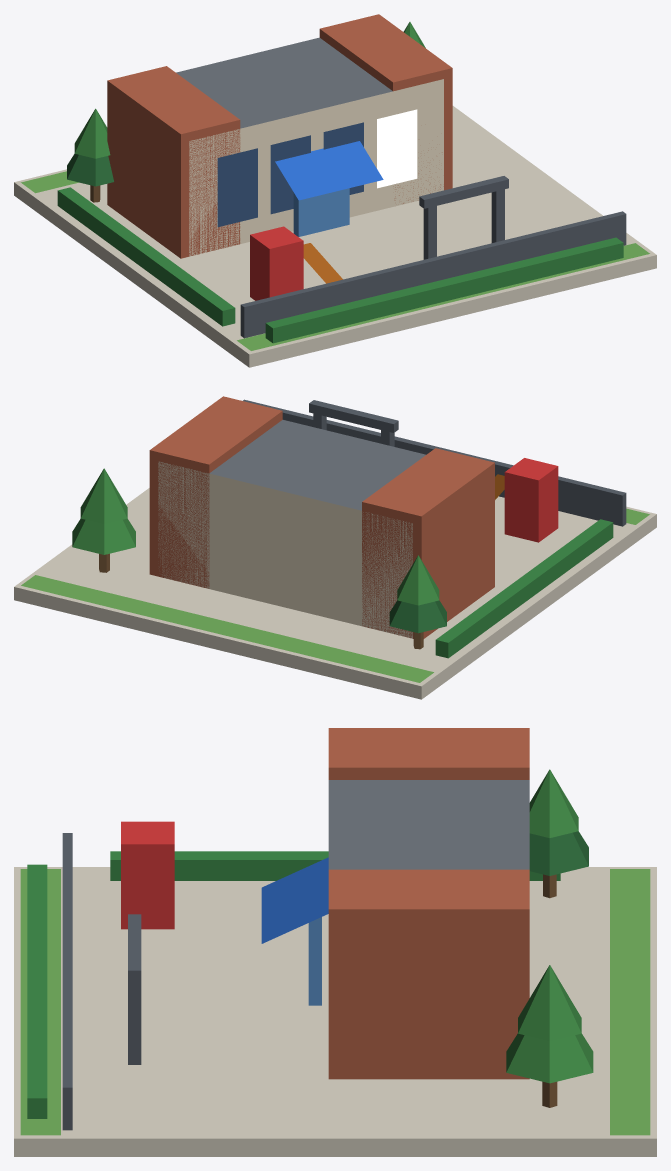
3 views of the same model, one above another, from view 1: azimuth 30°, elevation 25°; view 2: azimuth 150°, elevation 25°; view 3: azimuth 270°, elevation 25° (orthographic). The views are drawn at different scales.
Parts seen in each view (by area): view 1: b28; view 2: b28; view 3: b28.
Boxes of the visible parts, left/top/right/bottom form: b28: left=14, top=14, right=656, bottom=367; b28: left=14, top=396, right=656, bottom=699; b28: left=14, top=728, right=656, bottom=1156.
Size of the model in its own units: 0.96 by 0.31 by 0.96.
